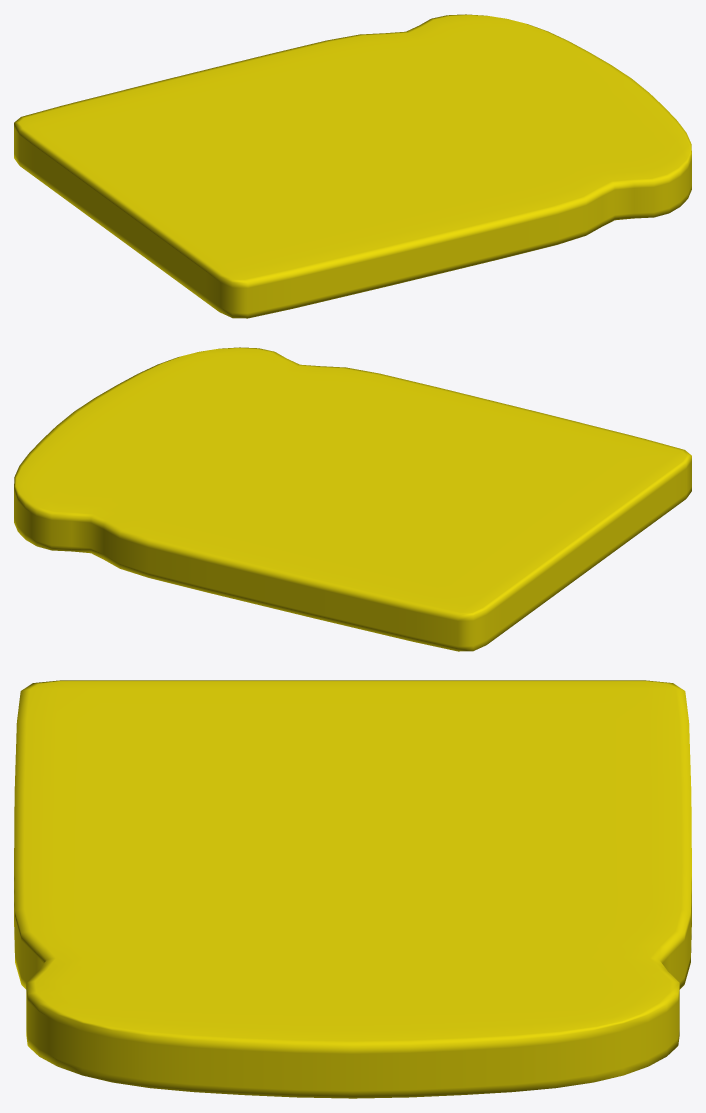
Rendered from Toast.fbx.
3 views of the same model, one above another, from view 1: azimuth 30°, elevation 25°; view 2: azimuth 150°, elevation 25°; view 3: azimuth 270°, elevation 25° (orthographic). The views are drawn at different scales.
Visible parts, largest first — view 1: Toast; view 2: Toast; view 3: Toast.
Part boxes in pixels (x1,y1,x2,y2): Toast: (14,14,691,318); Toast: (14,347,691,651); Toast: (14,680,691,1098).
Size of the model in its own units: 90.93 by 6.54 by 71.16.
